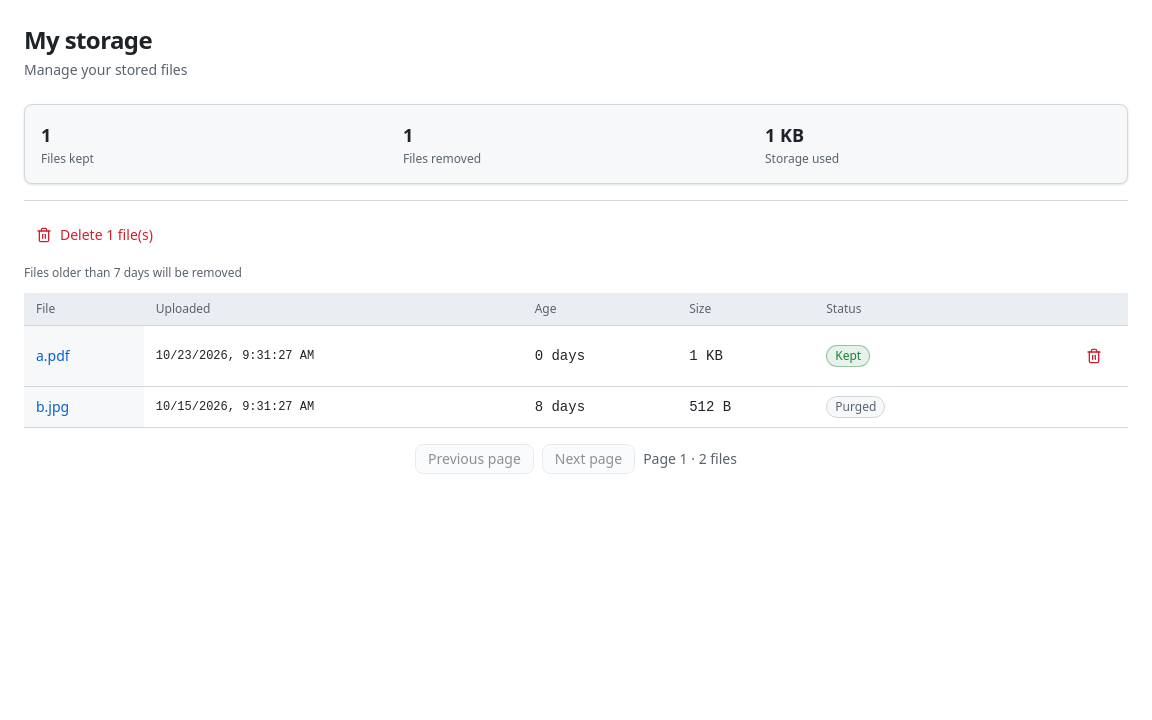
Scenario: bulk confirm label hiển thị count, không literal {n} (AC15)
expect the row with test id "storage-own-job-9" is shown: met, box [24, 326, 1128, 386]
Step 1. Click the button with test id "storage-own-purge-due" → click(94, 235), box [24, 213, 165, 257]
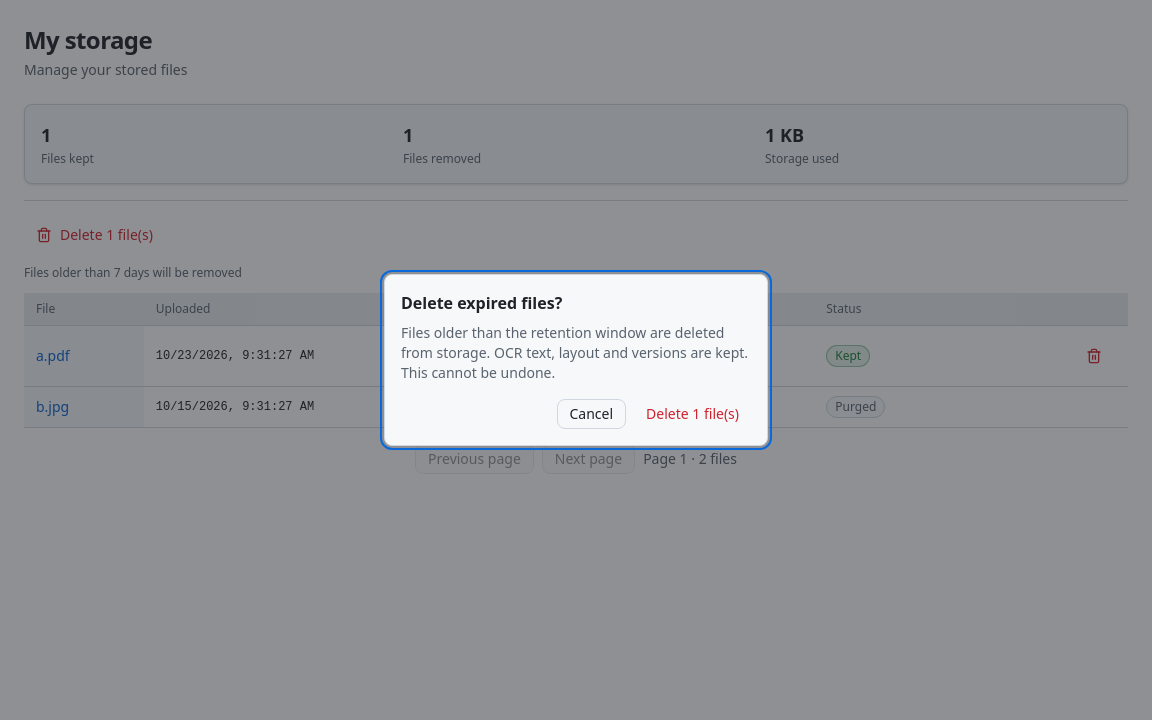
expect the button with test id "confirm-accept" shows "1": met, box [634, 399, 751, 429]
